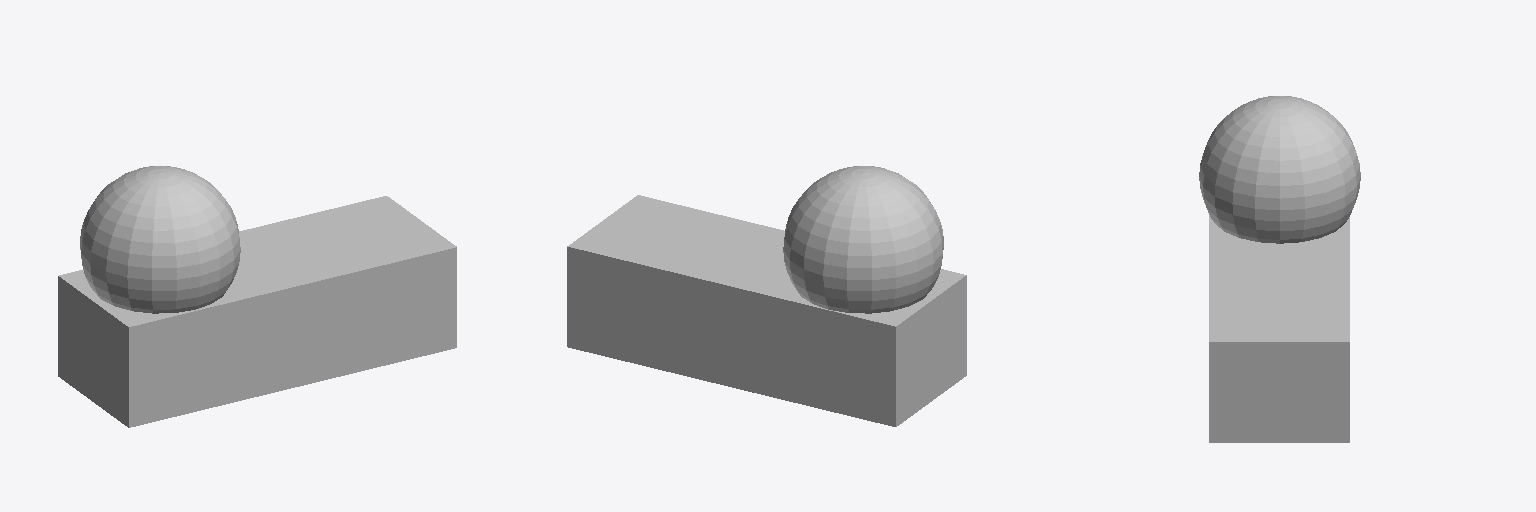
File: leftfoot.obj
The picture shows the model from 3 angles: view 1: azimuth 30°, elevation 25°; view 2: azimuth 150°, elevation 25°; view 3: azimuth 270°, elevation 25°; orthographic projection.
Visible parts, largest first — view 1: pCube8, pSphere5; view 2: pCube8, pSphere5; view 3: pCube8, pSphere5.
Part boxes in pixels (bbox=[...]): pCube8: bbox=[58, 196, 456, 427]; pSphere5: bbox=[80, 166, 240, 313]; pCube8: bbox=[567, 195, 966, 426]; pSphere5: bbox=[783, 166, 943, 313]; pCube8: bbox=[1209, 215, 1349, 442]; pSphere5: bbox=[1199, 96, 1360, 243].
Bounding box in the file's own units: 2.22 × 1.36 × 0.9387.